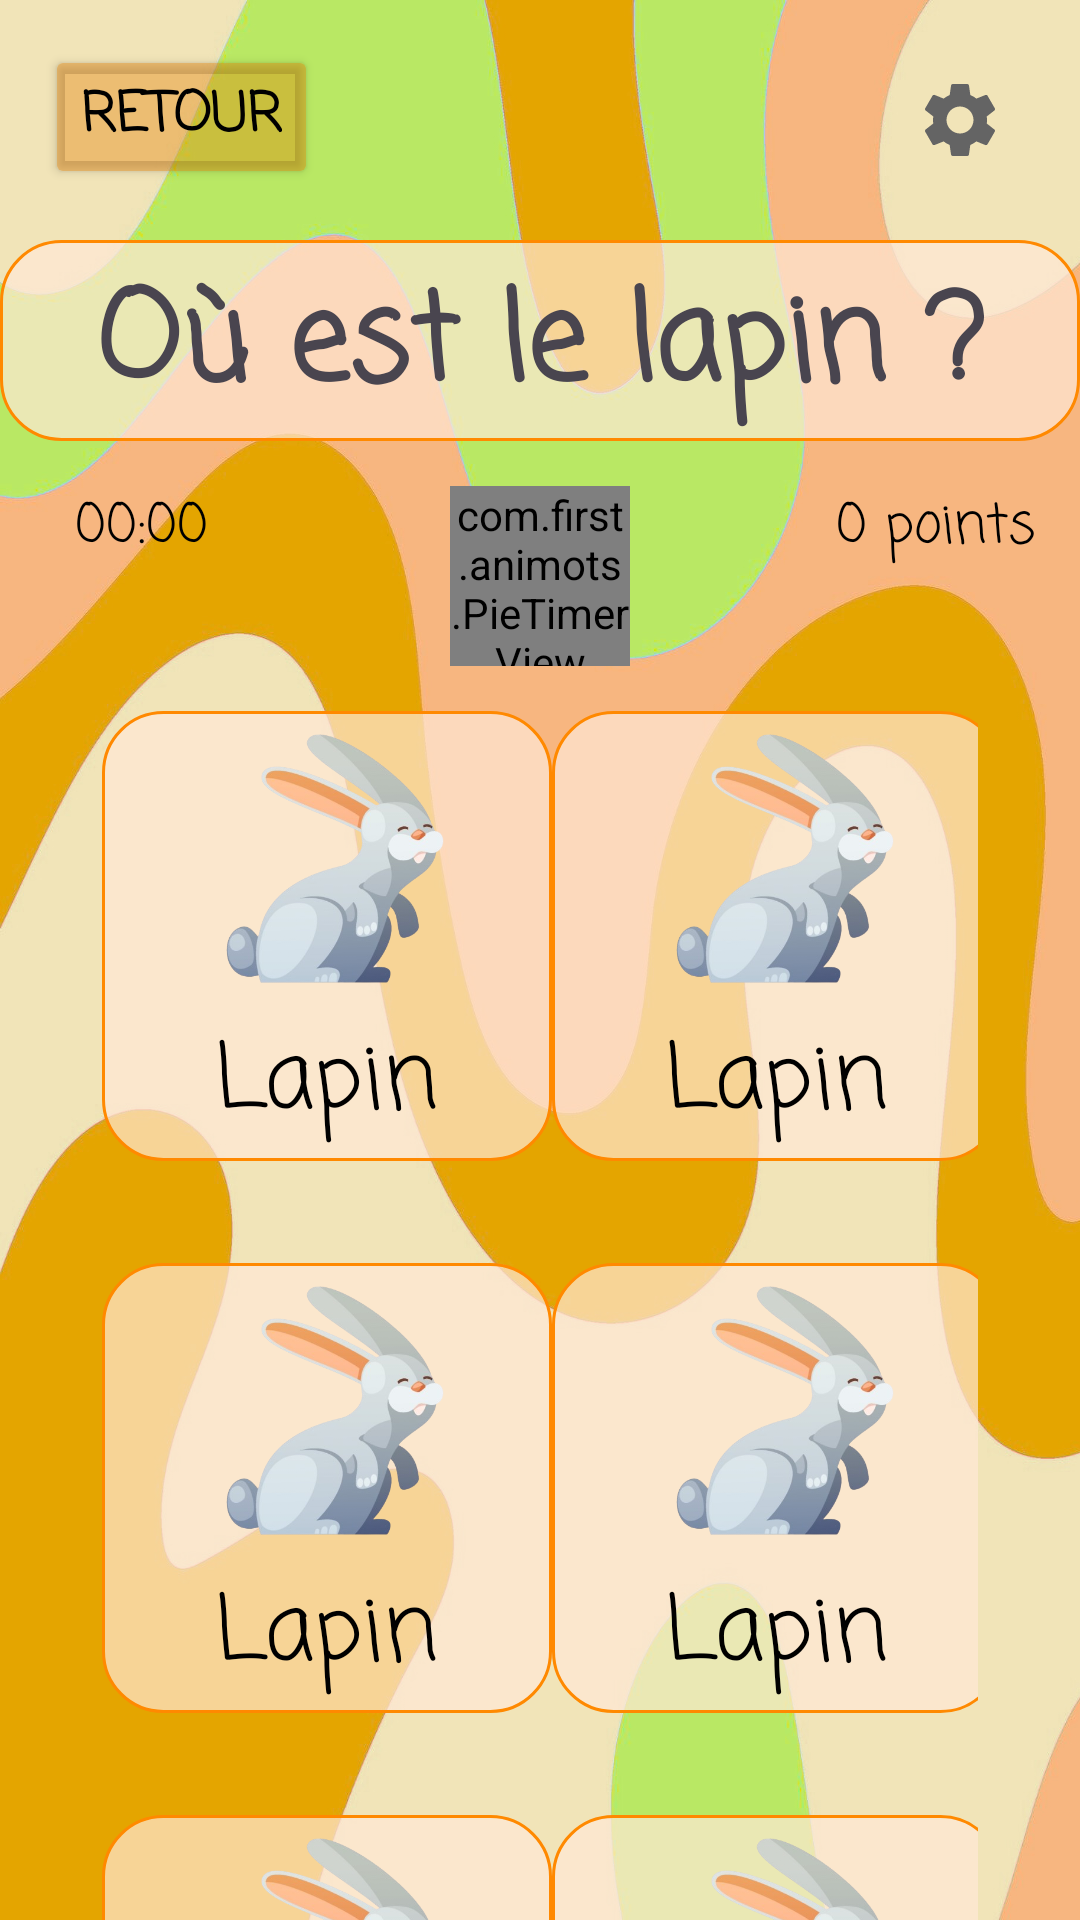

Point at icon controls on the screen. Image size 1080 × 1920, points as (x=x, y=y).
Paramètres: (x=960, y=120)
